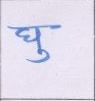u_matra: (27, 49, 52, 65)
